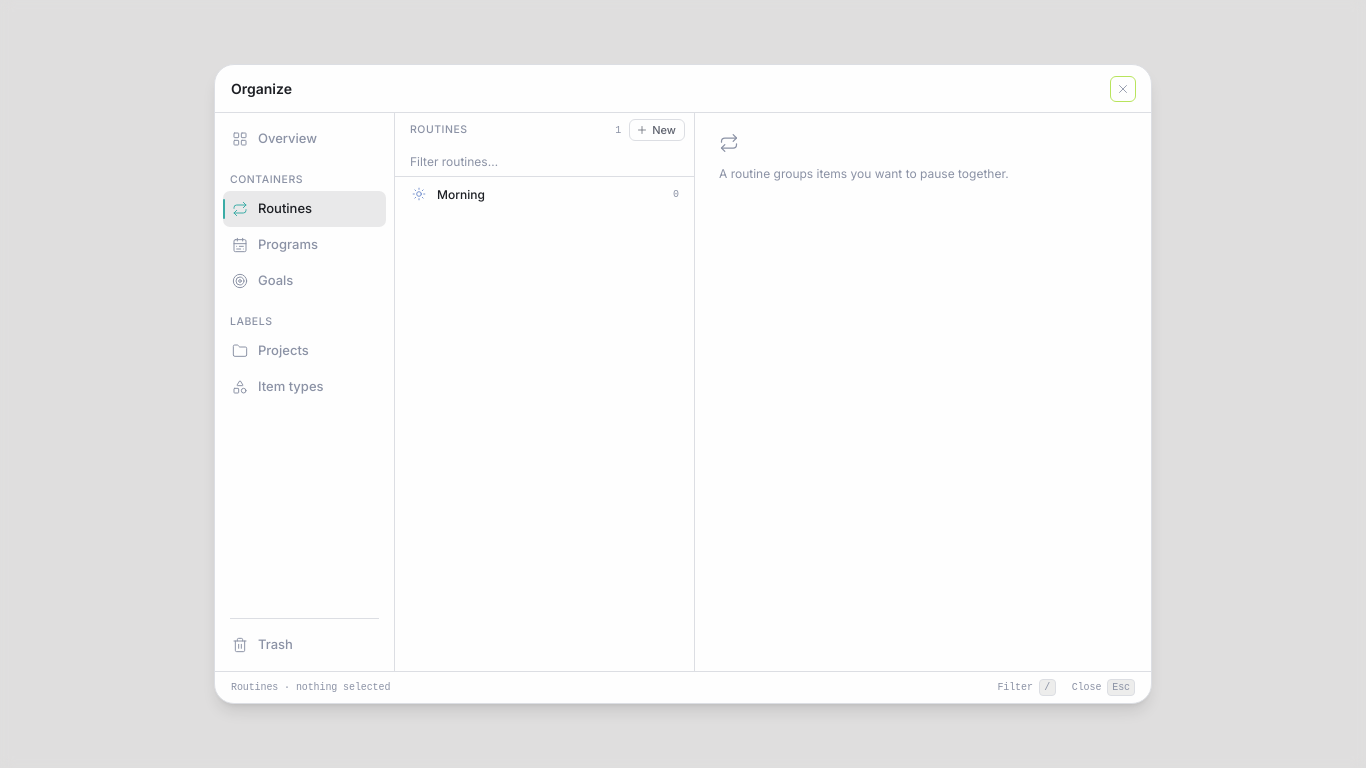
Scenario: dismissing the shared confirm › puts the cursor back on the control that opened it
The width and height of the screenshot is (1366, 768).
Later steps or results of the test are not shown.
What coordinates should you click on to do the following:
click the button with test id "routine-row"
I would click on:
 (461, 194)
Its box is [403,177,686,211].
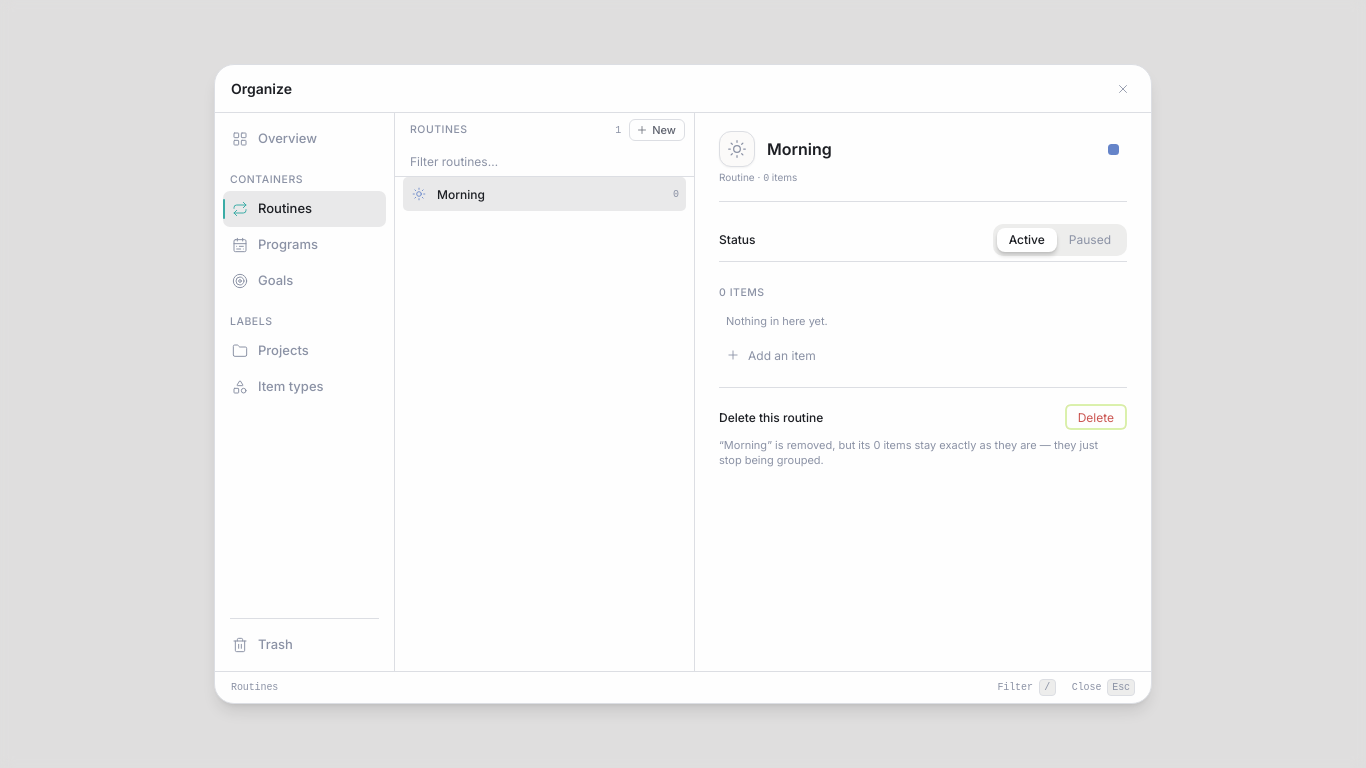
What coordinates should you click on to do the following:
click the button with test id "routine-delete"
I would click on:
 (1096, 417)
Its box is [1065,404,1127,430].
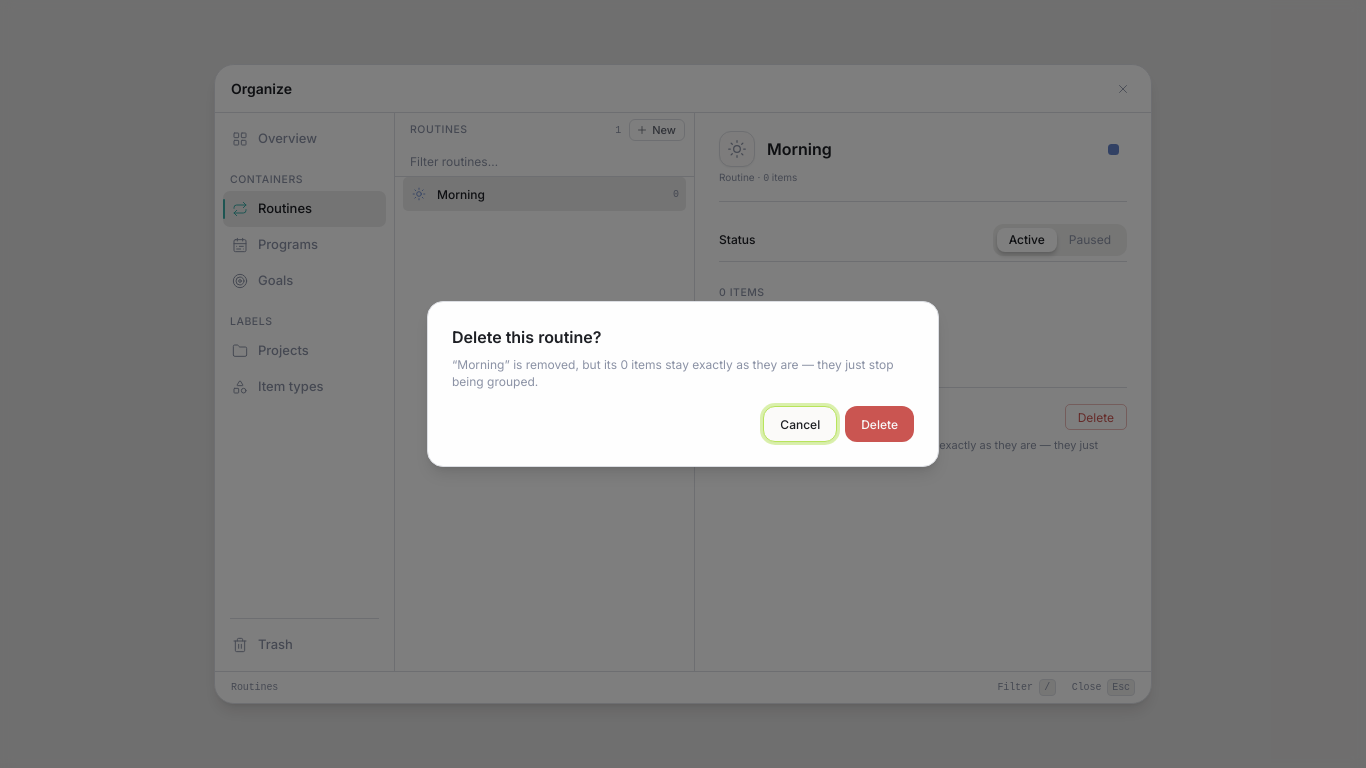
Check: the dialog with test id "confirm-dialog" is shown, box [427,301,939,467]
